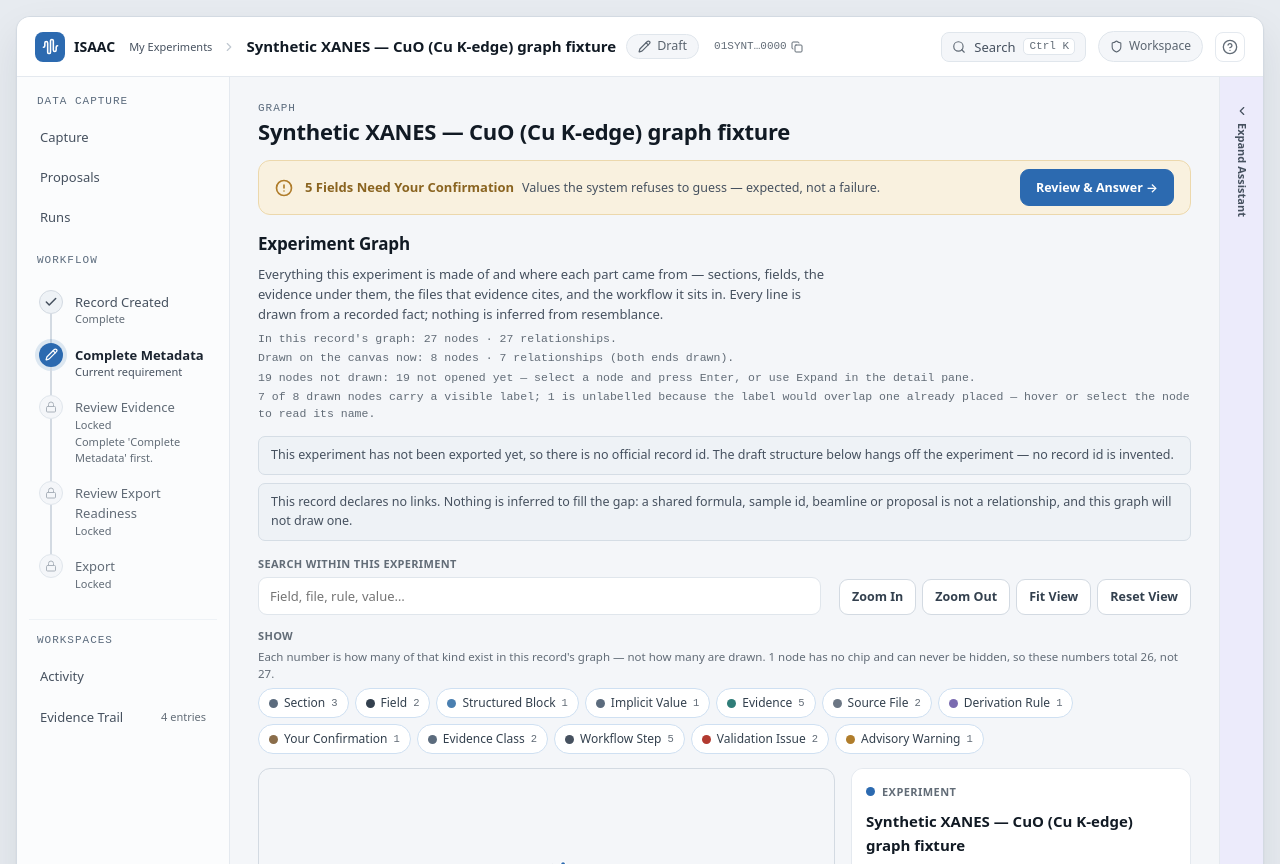
Test case: search within this experiment › finds a node and reveals it
Expected: the heading "Experiment Graph" is shown, x1=258 y1=232 x2=410 y2=255
Type "mock_campaign" into the search field labelled "Search within this experiment".
click(540, 596); type("mock_campaign")  # box x1=258 y1=576 x2=821 y2=615
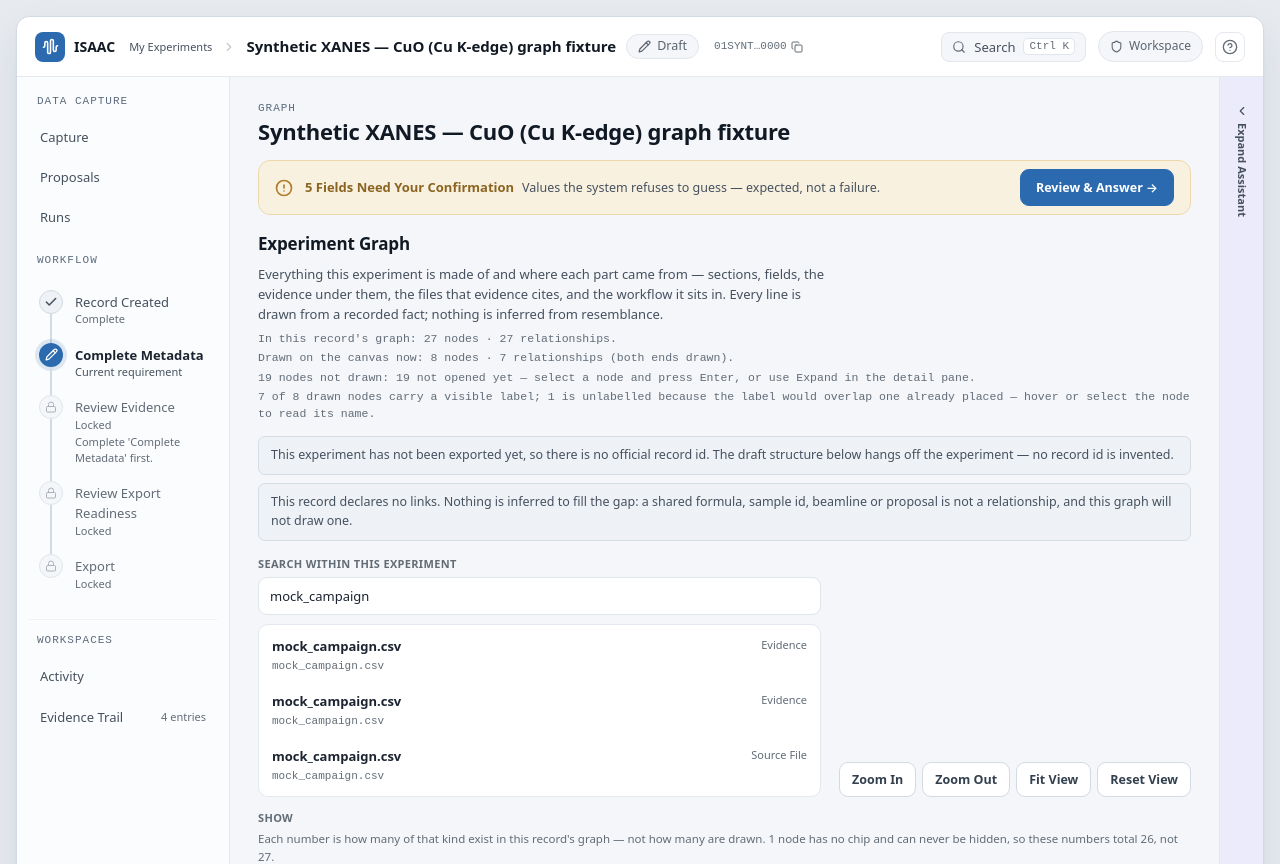
Result: the option "mock_campaign.csv Source File mock_campaign.csv" is shown
Click the option "mock_campaign.csv Source File mock_campaign.csv".
click(337, 756)  # box x1=263 y1=739 x2=816 y2=792
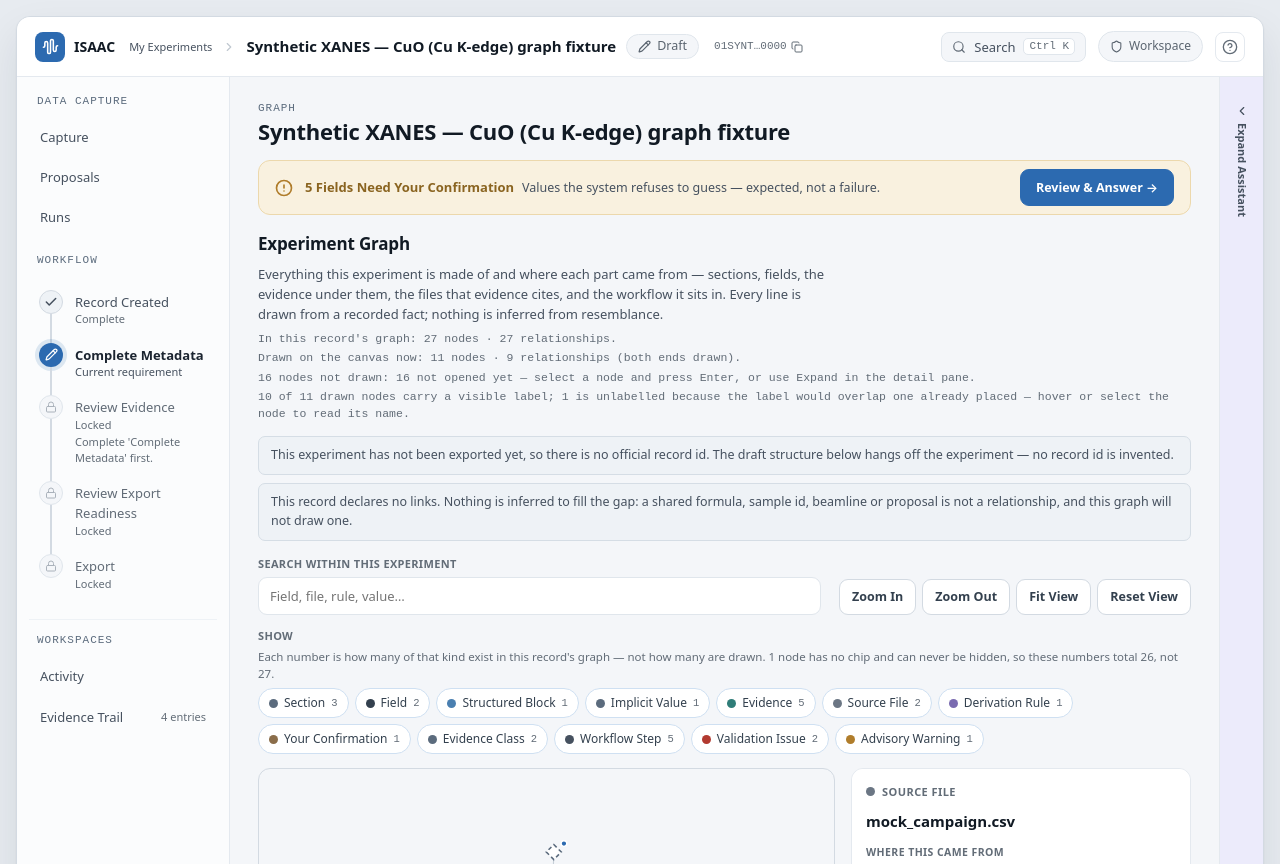
Result: the heading "mock_campaign.csv" is shown at x1=866 y1=811 x2=1015 y2=831
